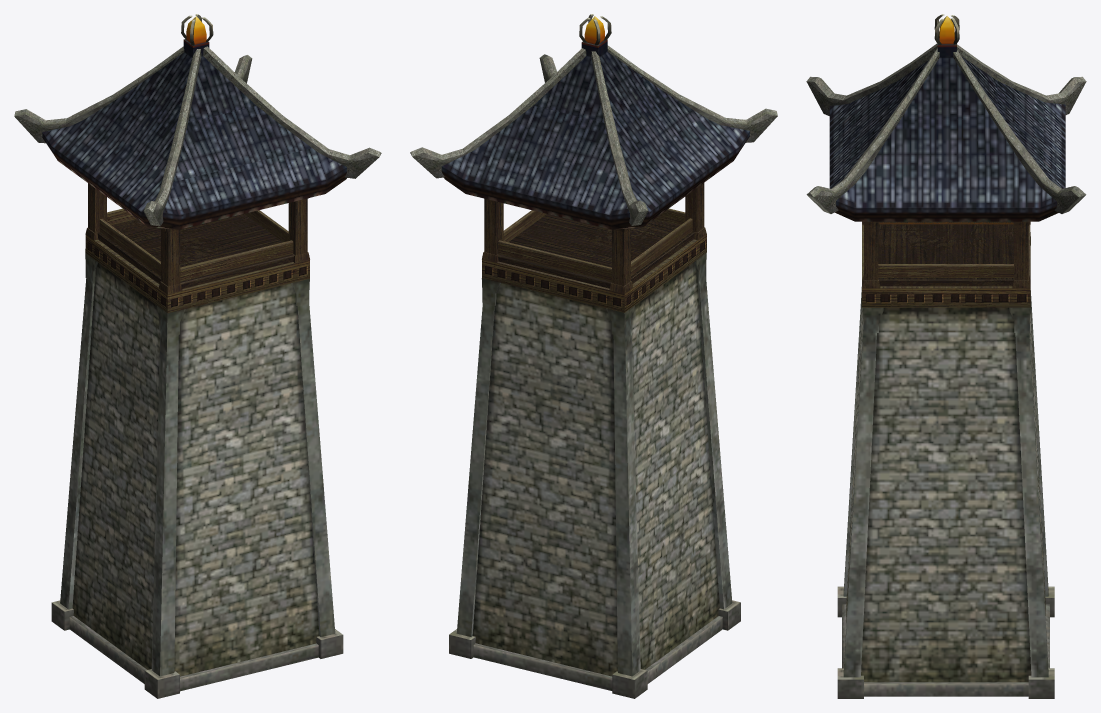
File: b1-middledam_00.fbx
3 views of the same model, side by side, from view 1: azimuth 30°, elevation 25°; view 2: azimuth 150°, elevation 25°; view 3: azimuth 270°, elevation 25° (orthographic). The views are drawn at different scales.
Parts seen in each view (by area): view 1: b1-middledam-04, b1-middledam-03_1; view 2: b1-middledam-04, b1-middledam-03_1; view 3: b1-middledam-04, b1-middledam-03_1.
Part boxes in pixels (left/top/right/bottom): b1-middledam-04: left=14, top=46, right=381, bottom=698; b1-middledam-03_1: left=42, top=14, right=346, bottom=229; b1-middledam-04: left=410, top=45, right=777, bottom=698; b1-middledam-03_1: left=441, top=14, right=749, bottom=229; b1-middledam-04: left=806, top=43, right=1086, bottom=698; b1-middledam-03_1: left=829, top=14, right=1065, bottom=221.
Bounding box in the file's own units: 4.93 × 12.29 × 4.9.
